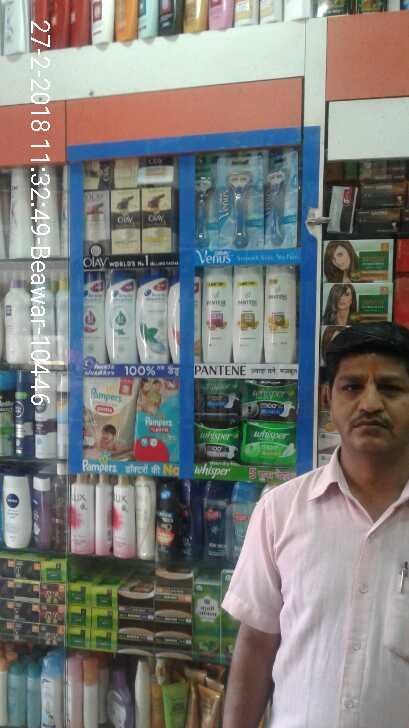venus: (222, 154, 264, 249), (264, 144, 299, 249), (194, 154, 222, 252)
